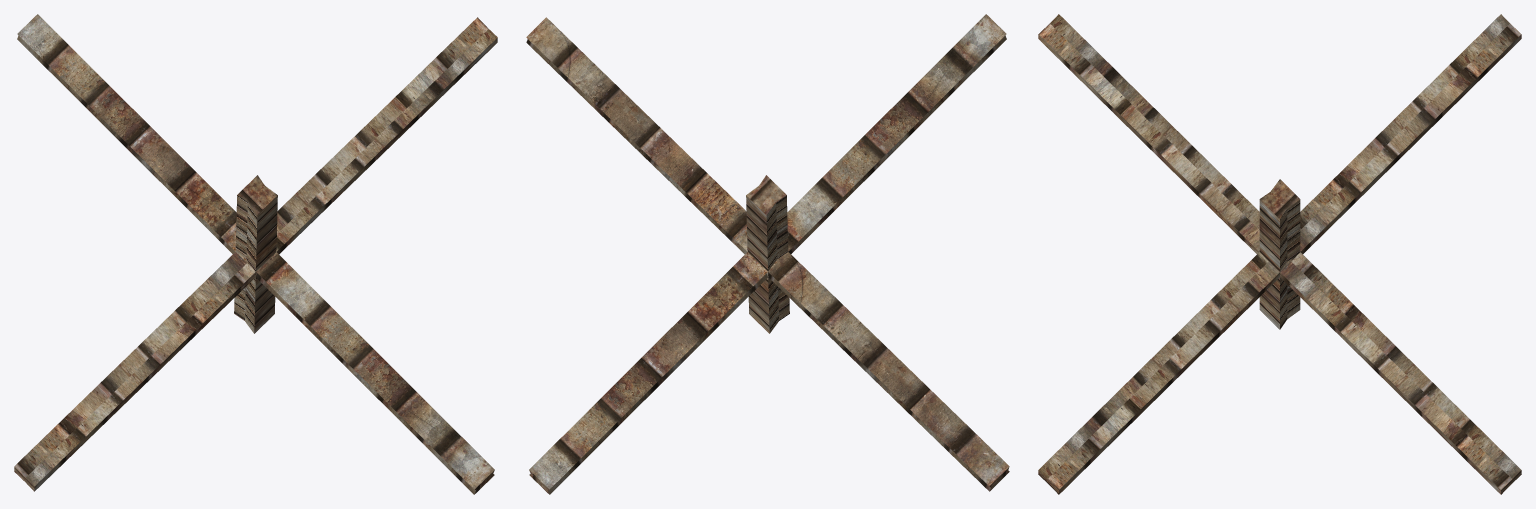
Rendered from Antitank1_LOD1.fbx.
The picture shows the model from 3 angles, left to right: view 1: azimuth 30°, elevation 25°; view 2: azimuth 150°, elevation 25°; view 3: azimuth 270°, elevation 25°; orthographic projection.
Visible parts, largest first — view 1: polySurface280; view 2: polySurface280; view 3: polySurface280.
Part boxes in pixels (box(x1,y1,x2,y2)): polySurface280: box(14, 14, 497, 494); polySurface280: box(526, 14, 1009, 494); polySurface280: box(1038, 14, 1521, 494).
Bounding box in the file's own units: 2.36 × 1.74 × 2.04.
Materials: 1 (1 with a texture image).
